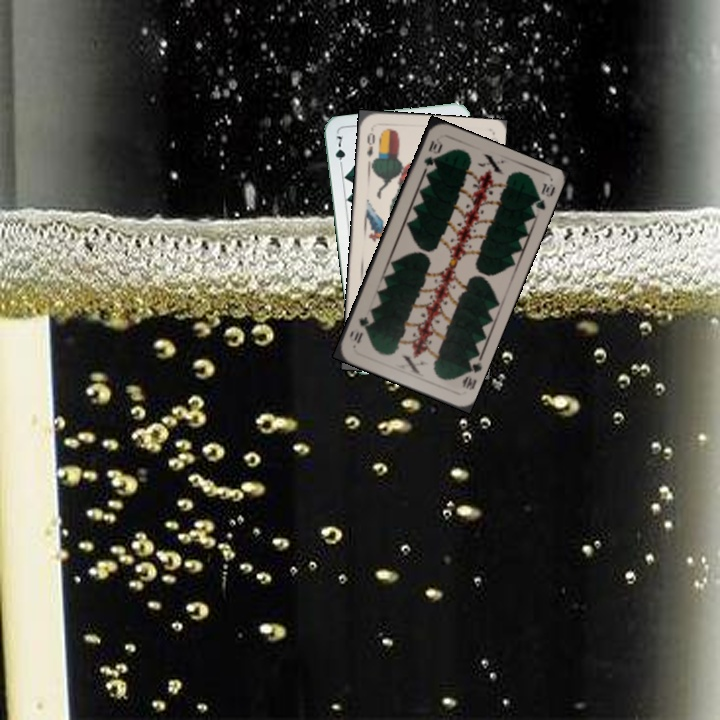EO: (362, 129, 378, 159)
G10: (458, 353, 484, 393), (420, 136, 445, 169)
G7: (331, 131, 348, 171)
